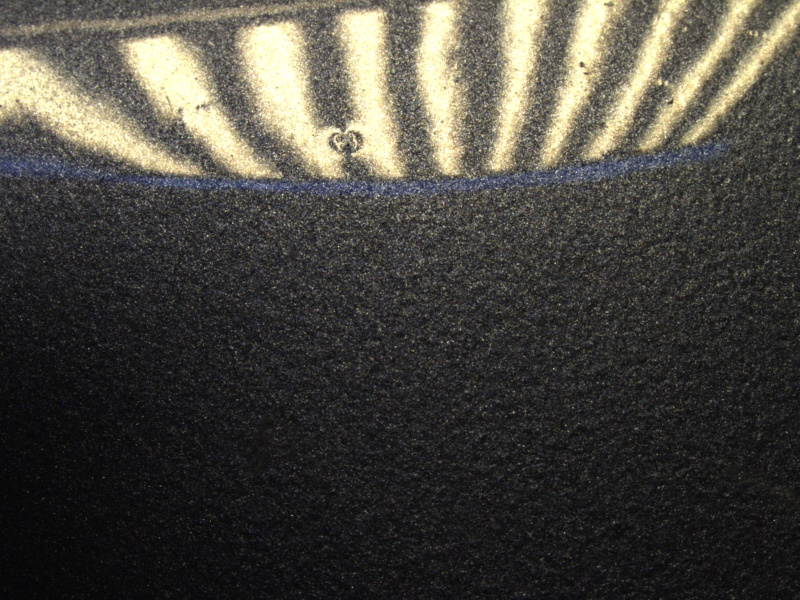bad: (323, 117, 369, 163)
